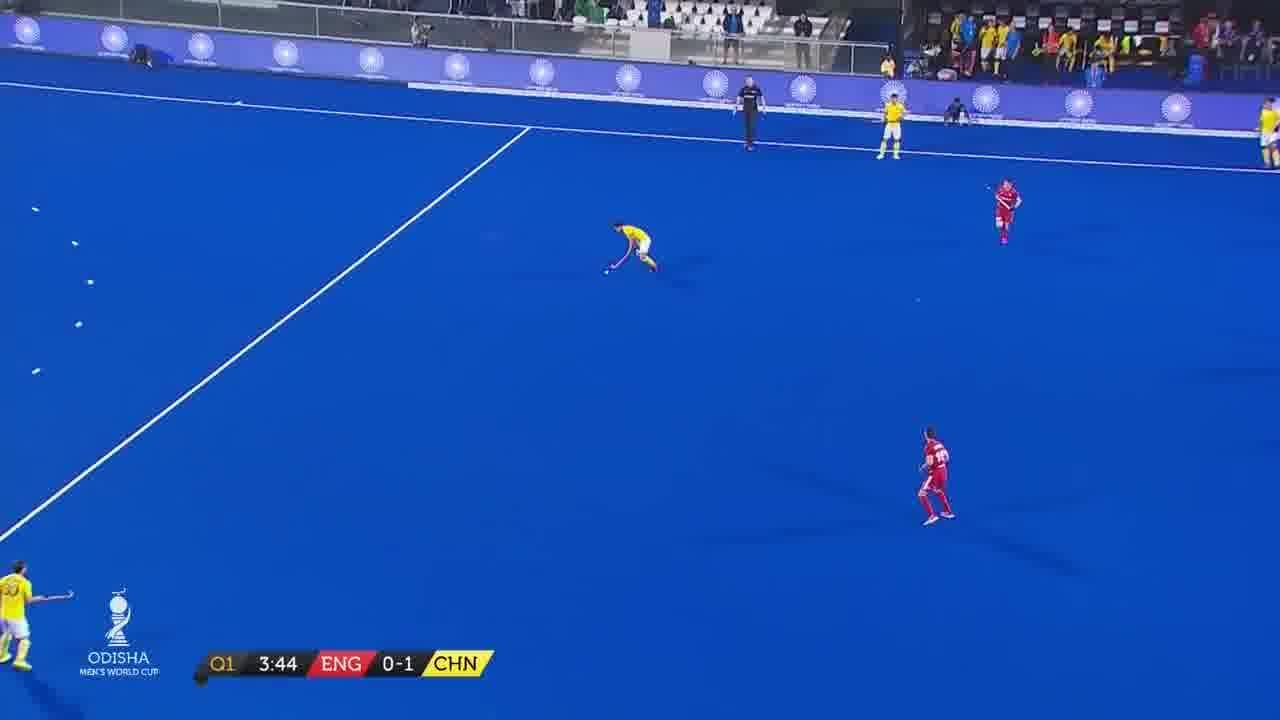ball: (598, 267, 612, 278)
